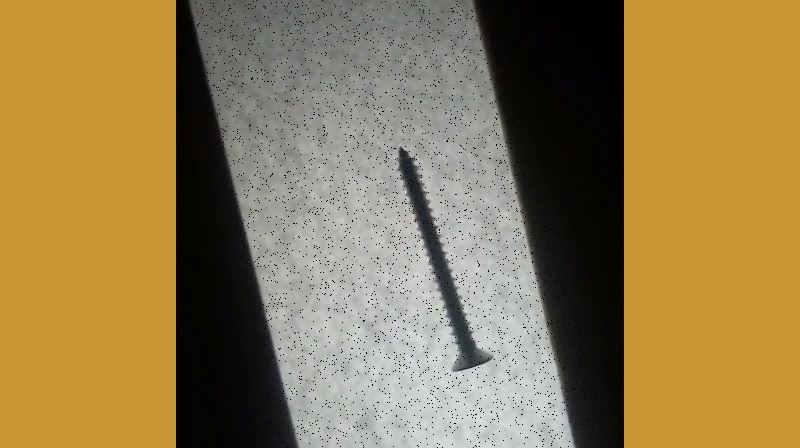S002: (394, 141, 495, 374)
